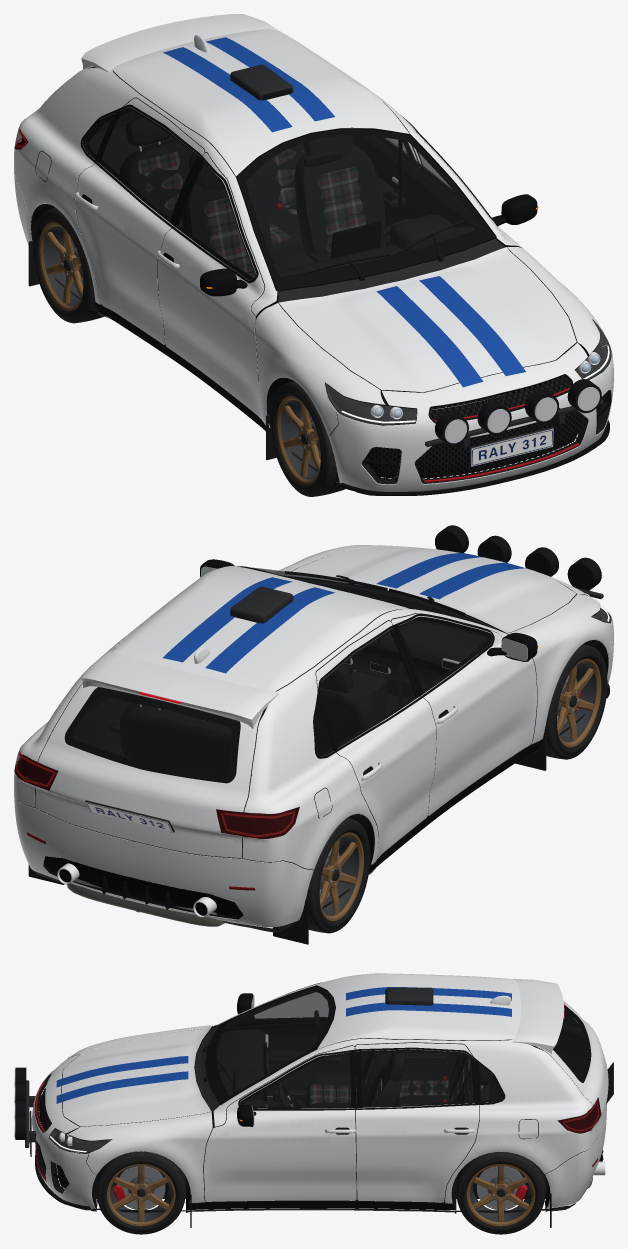
File: rally-hatchback.glb
The picture shows the model from 3 angles, top to bottom: view 1: azimuth 30°, elevation 25°; view 2: azimuth 150°, elevation 25°; view 3: azimuth 270°, elevation 25°; orthographic projection. The views are drawn at different scales.
Parts seen in each view (by area): view 1: Body, Wheel_FR, Wheel_RR; view 2: Body, Wheel_RR, Wheel_FR; view 3: Body, Wheel_FL, Wheel_RL.
Boxes of the visible parts, bbox=[...] form: Body: bbox=[14, 14, 613, 495]; Wheel_FR: bbox=[270, 381, 345, 496]; Wheel_RR: bbox=[33, 207, 105, 323]; Body: bbox=[14, 525, 613, 944]; Wheel_RR: bbox=[306, 817, 370, 933]; Wheel_FR: bbox=[545, 643, 607, 759]; Body: bbox=[14, 973, 613, 1227]; Wheel_FL: bbox=[96, 1151, 186, 1234]; Wheel_RL: bbox=[456, 1152, 545, 1234].
Size of the model in its own units: 2.1 by 1.52 by 4.34.
Materials: 62 (11 with a texture image).
